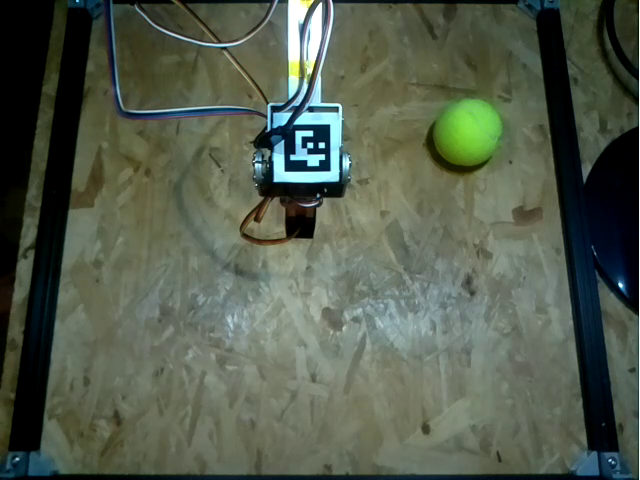tennis_ball: (432, 97, 502, 166)
